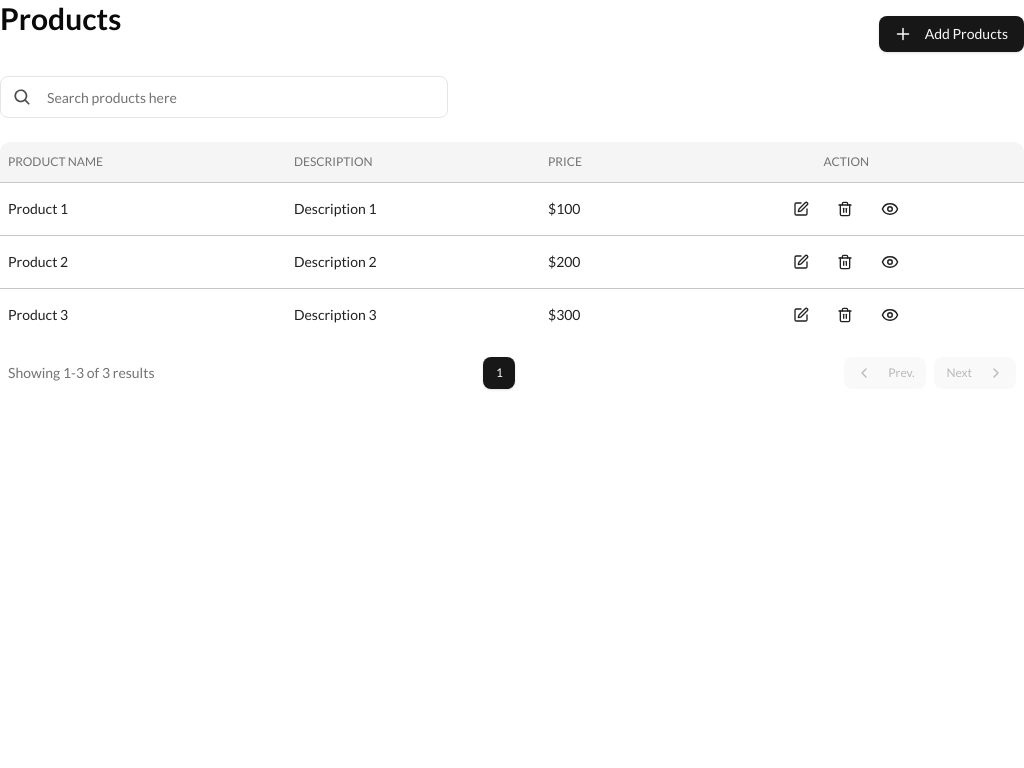
Test: Products Component - Integration Tests › Dialog State Management › should open edit dialog with selected product
Click the button with test id "edit-button-1". click: (801,208)
box: [785,190,817,226]
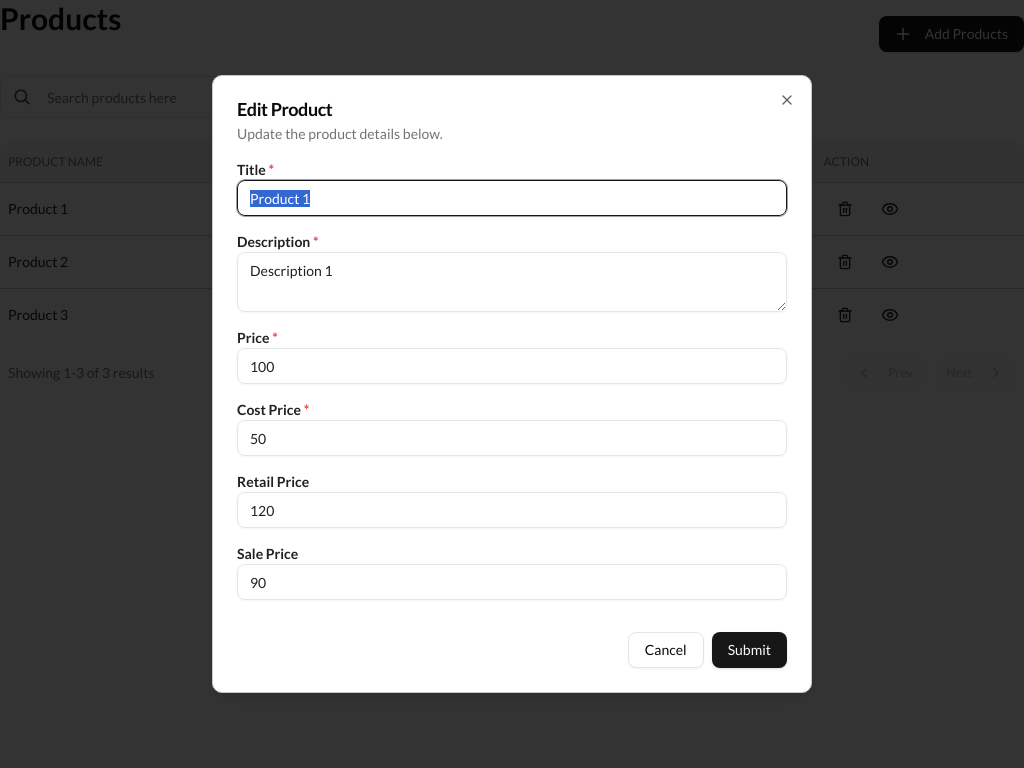
Expected: the dialog with test id "product-dialog" is shown, [212,75,812,693]
Expected: the heading with test id "dialog-title" reads "Edit Product", [237,98,332,120]
